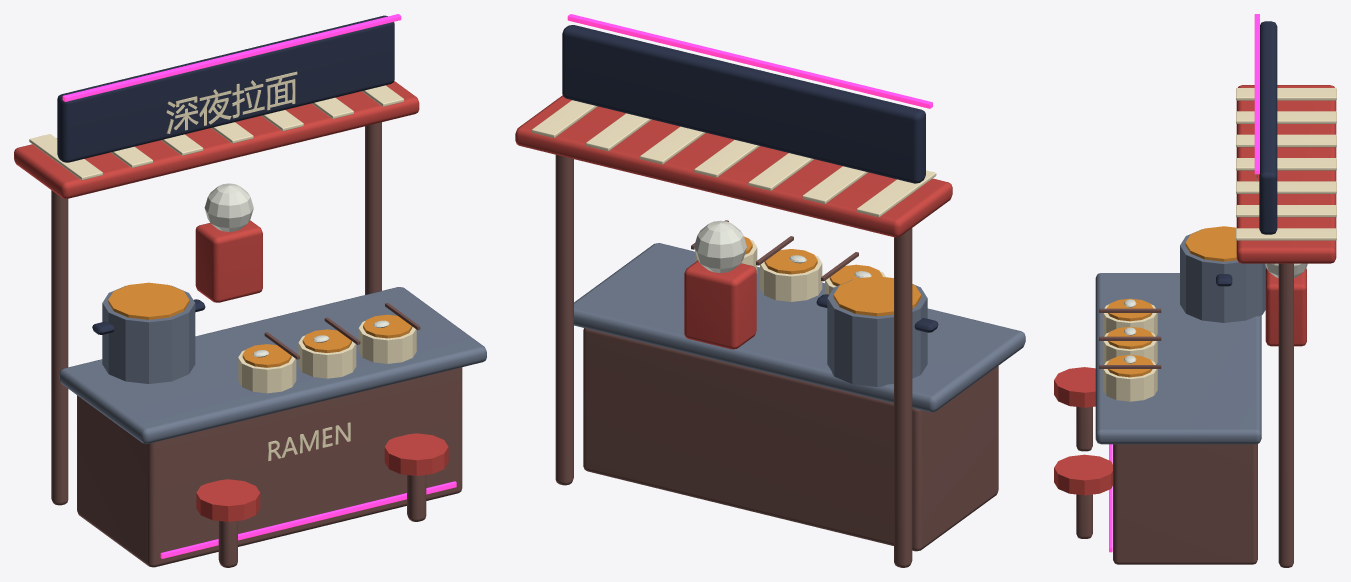
The model's file is stall_ramen.glb.
3 renders of one model, left to right at view 1: azimuth 30°, elevation 25°; view 2: azimuth 150°, elevation 25°; view 3: azimuth 270°, elevation 25°, orthographic. The views are drawn at different scales.
Parts seen in each view (by area): view 1: stall_ramen_Warm wood, stall_ramen_Brushed metal, stall_ramen_Midnight enamel, stall_ramen_Ramen canvas, stall_ramen_Cream lettering, stall_ramen_Golden broth, stall_ramen_Neon sakura, stall_ramen_Porcelain; view 2: stall_ramen_Warm wood, stall_ramen_Brushed metal, stall_ramen_Midnight enamel, stall_ramen_Ramen canvas, stall_ramen_Cream lettering, stall_ramen_Golden broth, stall_ramen_Neon sakura, stall_ramen_Porcelain; view 3: stall_ramen_Warm wood, stall_ramen_Brushed metal, stall_ramen_Ramen canvas, stall_ramen_Cream lettering, stall_ramen_Midnight enamel, stall_ramen_Golden broth, stall_ramen_Neon sakura, stall_ramen_Porcelain.
Boxes of the visible parts, bbox=[...] form: stall_ramen_Warm wood: bbox=[51, 122, 462, 567]; stall_ramen_Brushed metal: bbox=[59, 285, 486, 443]; stall_ramen_Midnight enamel: bbox=[57, 15, 394, 334]; stall_ramen_Ramen canvas: bbox=[14, 81, 448, 521]; stall_ramen_Cream lettering: bbox=[29, 71, 416, 460]; stall_ramen_Golden broth: bbox=[108, 282, 412, 367]; stall_ramen_Neon sakura: bbox=[62, 14, 456, 558]; stall_ramen_Porcelain: bbox=[204, 183, 389, 357]; stall_ramen_Warm wood: bbox=[555, 155, 998, 567]; stall_ramen_Brushed metal: bbox=[574, 243, 1025, 412]; stall_ramen_Midnight enamel: bbox=[562, 25, 938, 332]; stall_ramen_Ramen canvas: bbox=[515, 95, 952, 349]; stall_ramen_Cream lettering: bbox=[532, 100, 936, 301]; stall_ramen_Golden broth: bbox=[744, 236, 921, 316]; stall_ramen_Neon sakura: bbox=[567, 14, 932, 108]; stall_ramen_Porcelain: bbox=[694, 220, 871, 278]; stall_ramen_Warm wood: bbox=[1076, 263, 1293, 567]; stall_ramen_Brushed metal: bbox=[1095, 229, 1266, 444]; stall_ramen_Ramen canvas: bbox=[1054, 85, 1336, 495]; stall_ramen_Cream lettering: bbox=[1102, 88, 1336, 401]; stall_ramen_Midnight enamel: bbox=[1216, 21, 1277, 286]; stall_ramen_Golden broth: bbox=[1106, 226, 1236, 377]; stall_ramen_Neon sakura: bbox=[1109, 14, 1259, 552]; stall_ramen_Porcelain: bbox=[1124, 263, 1307, 363].
Bounding box in the file's own units: 2.85 × 3.21 × 2.05.
